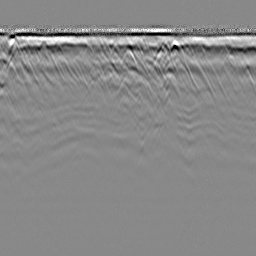cavity: (120, 46, 137, 69)
